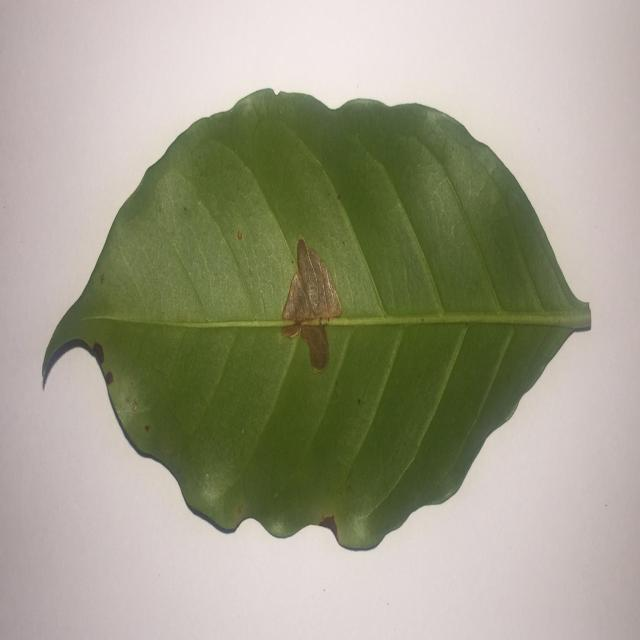Plaga-Minador: (40, 89, 592, 554)
